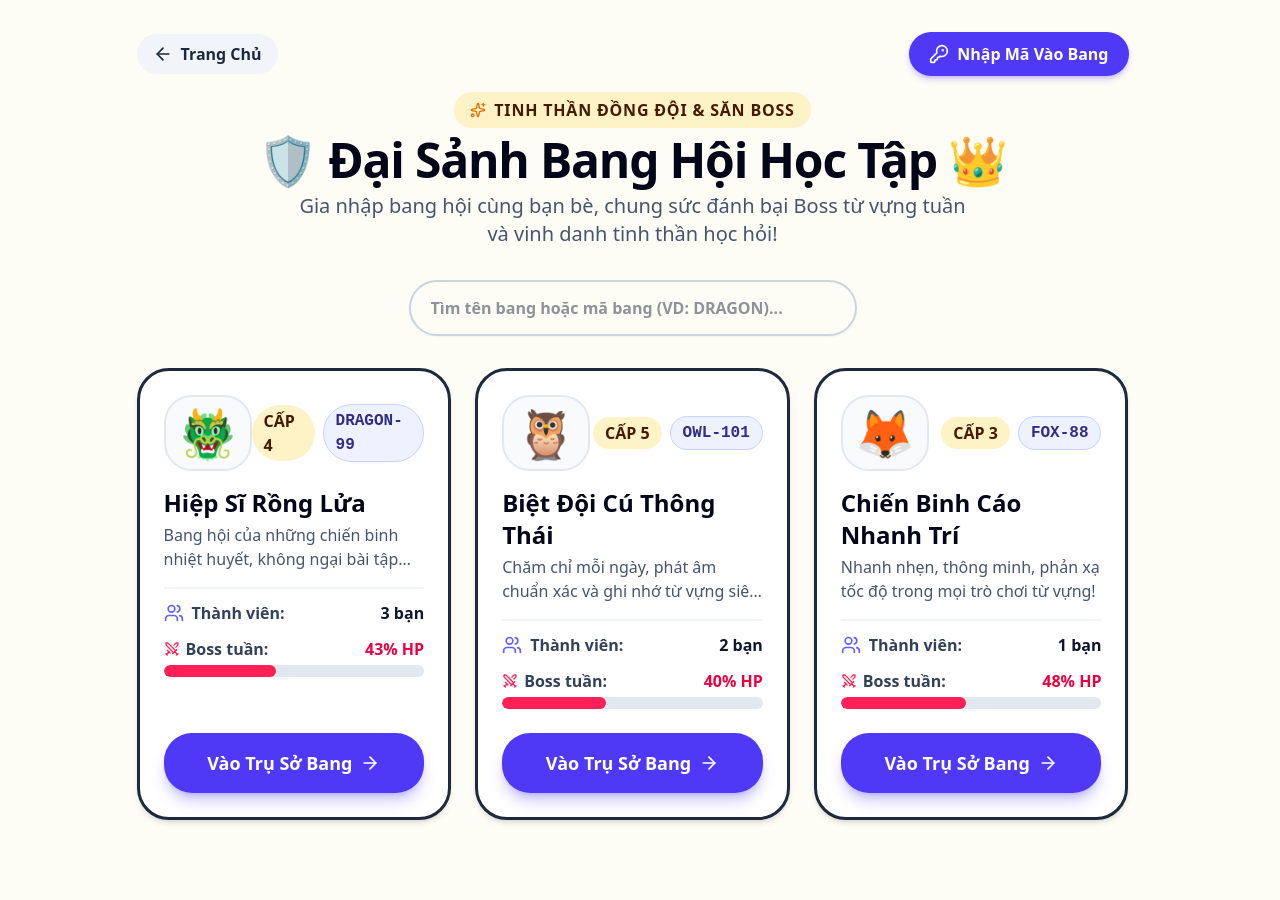
Test: GuildHub Component › opens join modal on button click
The image size is (1280, 900).
Click the button with aria-label "nhập mã vào bang hội".
click(1019, 54)  # box [909,32,1129,76]
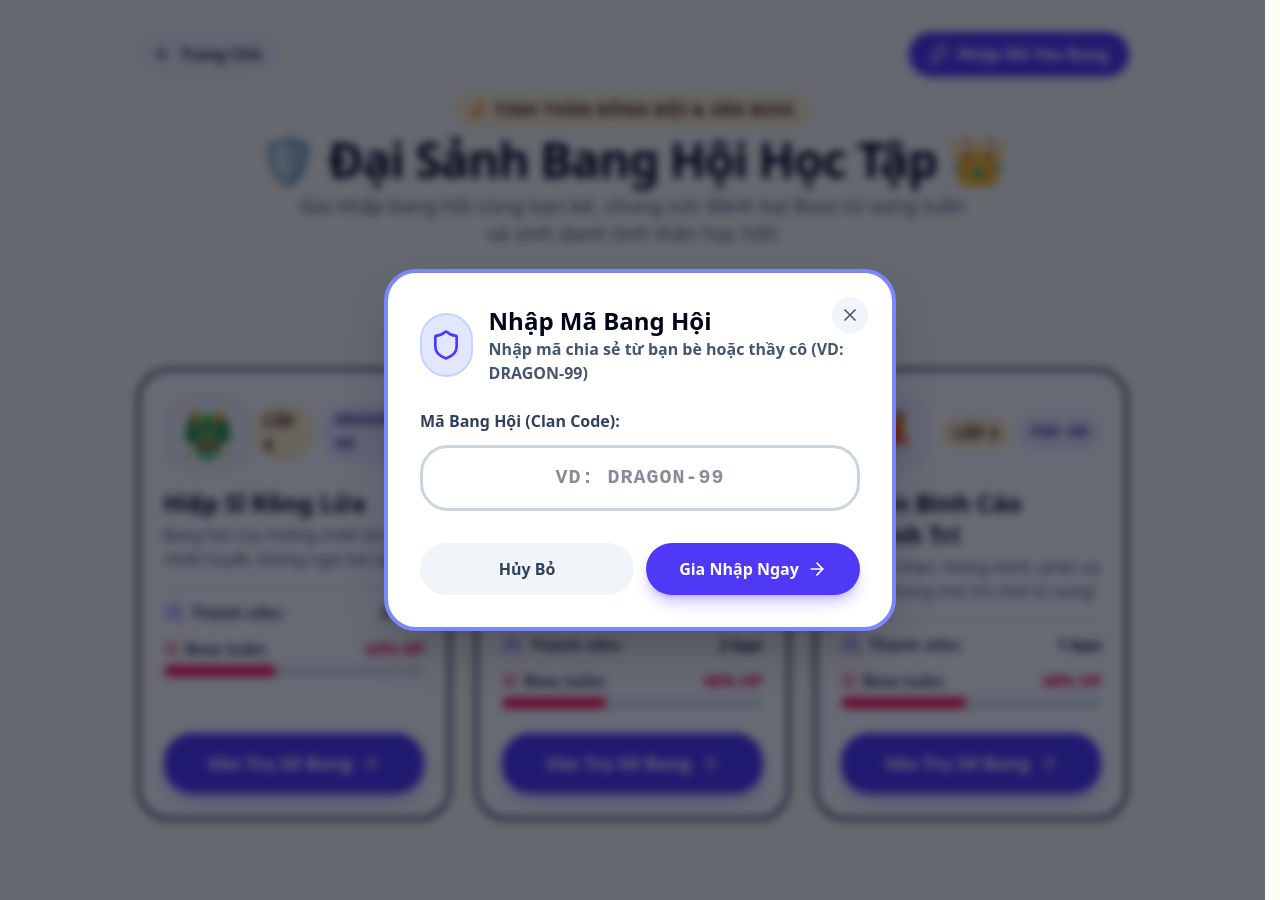
Expected: the dialog named "gia nhập bang hội bằng mã" is shown
